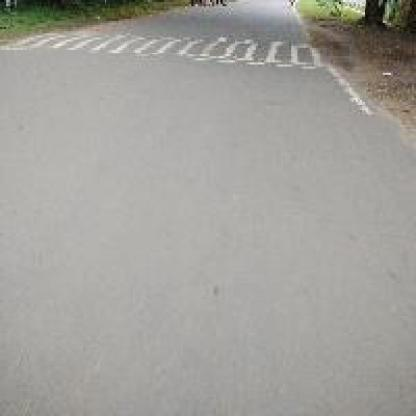Speed Bump: (0, 25, 333, 73)
